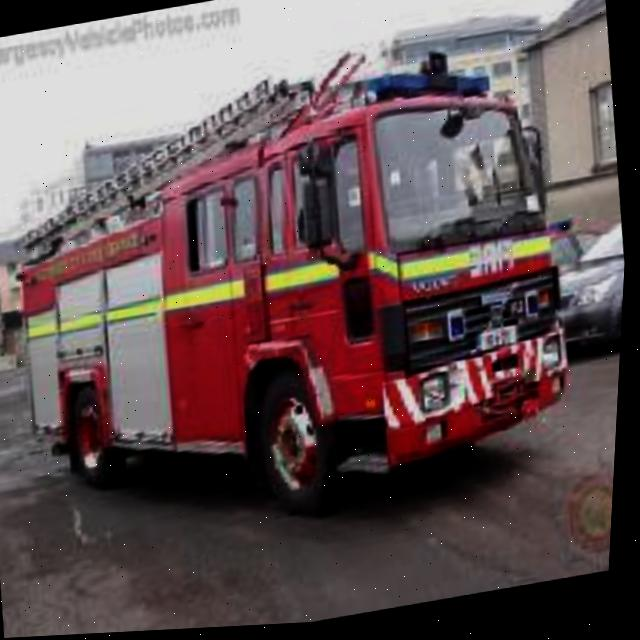emergency: (0, 42, 600, 565)
